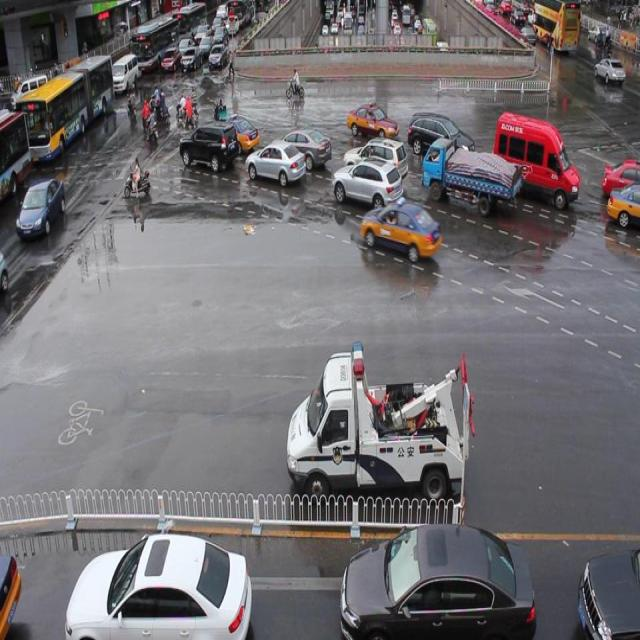bus: (288, 335, 476, 505), (423, 134, 520, 211)
car: (343, 524, 534, 640), (68, 531, 250, 640), (584, 543, 640, 640), (362, 199, 438, 261), (333, 153, 404, 211), (408, 108, 474, 160), (179, 117, 240, 167), (243, 140, 306, 182), (344, 137, 407, 178), (272, 124, 330, 168), (0, 547, 21, 640), (348, 100, 398, 136), (213, 112, 259, 150), (603, 154, 640, 197), (608, 180, 640, 227)
truck: (492, 107, 580, 202)
